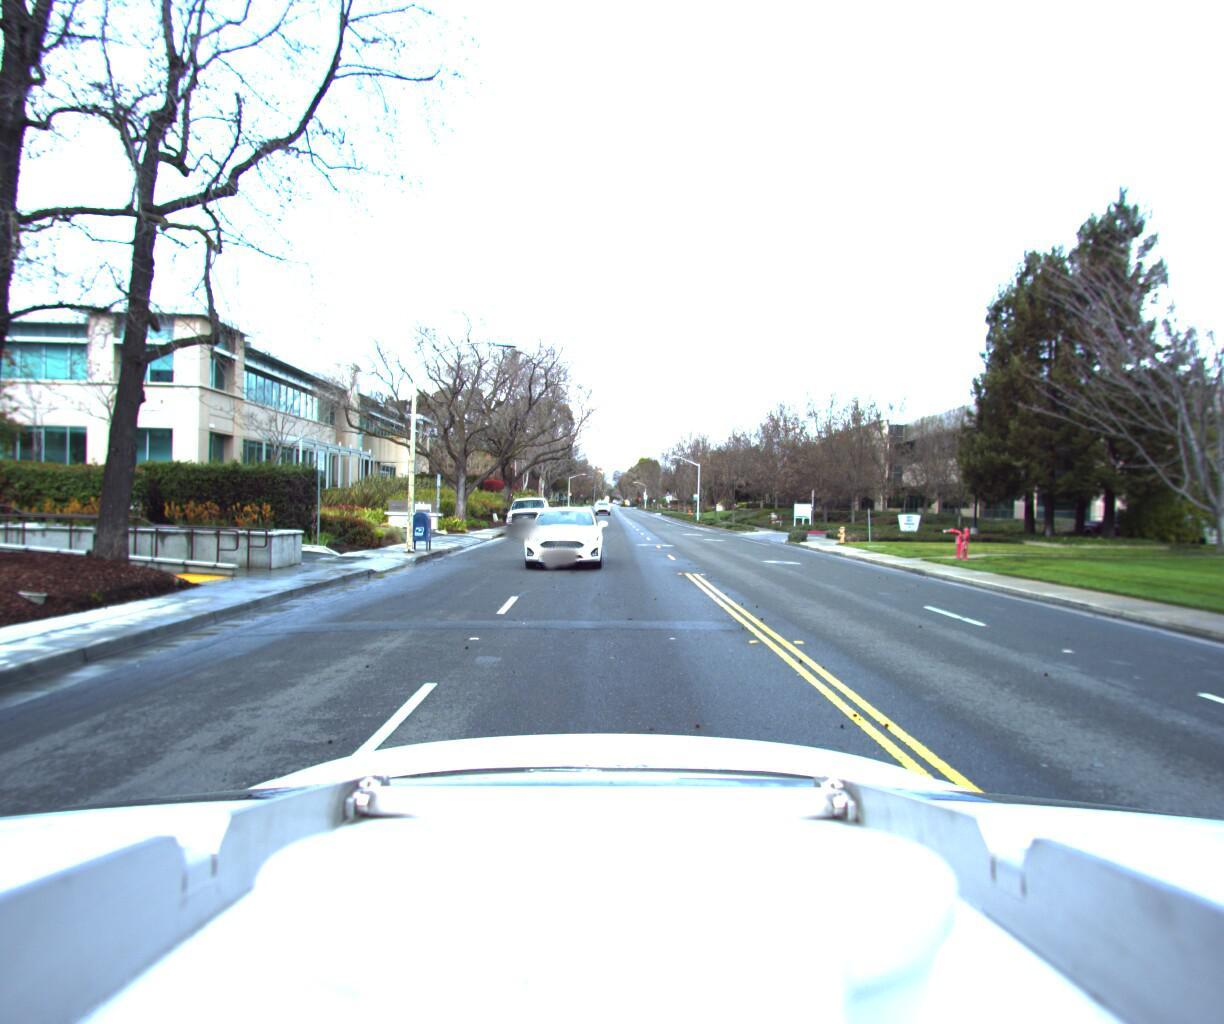car: (514, 502, 608, 573), (496, 493, 565, 534)
